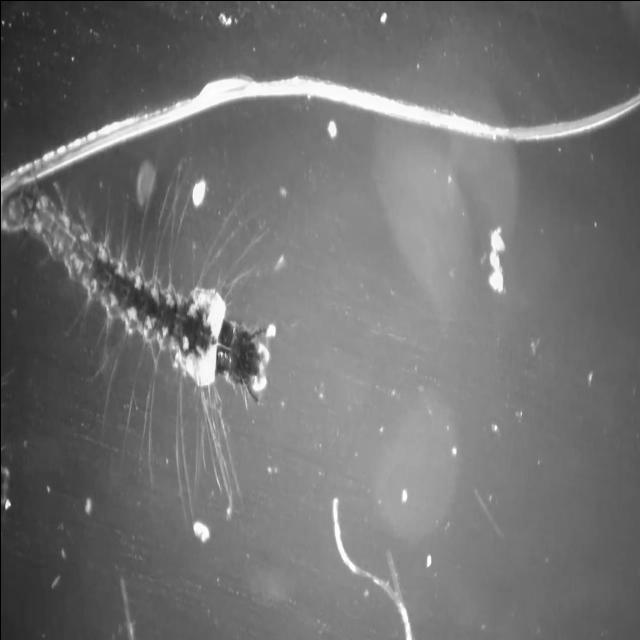larvas: (15, 180, 270, 392)
